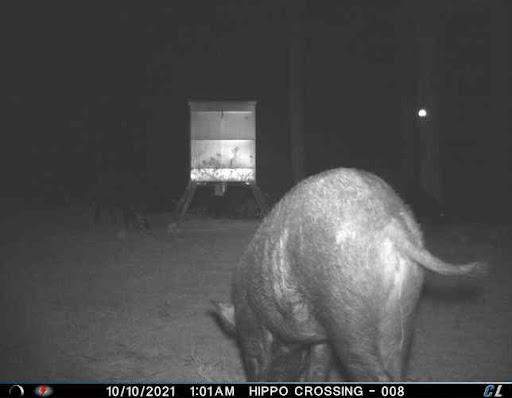Hog: (203, 154, 490, 380)
